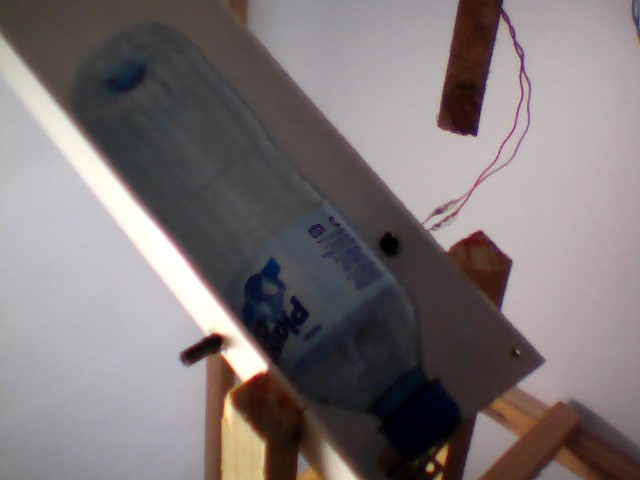plastico: (64, 18, 467, 472)
